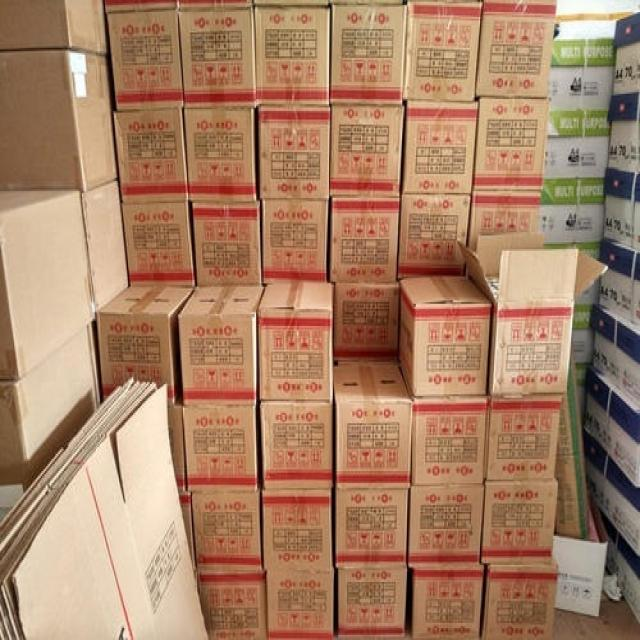box: (457, 234, 611, 394), (0, 189, 96, 382), (0, 317, 100, 490), (0, 48, 118, 191), (93, 287, 197, 408), (399, 276, 494, 401), (177, 285, 265, 408), (333, 362, 411, 490), (259, 282, 333, 401), (475, 0, 558, 97), (403, 2, 484, 101), (114, 108, 191, 207), (332, 3, 406, 106), (553, 336, 590, 541), (108, 10, 184, 109), (178, 10, 256, 106), (255, 5, 330, 104), (582, 430, 640, 558), (183, 108, 260, 203), (550, 497, 611, 616), (403, 99, 477, 196), (475, 99, 550, 193), (329, 104, 404, 198), (257, 104, 330, 200), (481, 476, 559, 563), (412, 396, 488, 485), (485, 393, 562, 480), (585, 367, 640, 488), (81, 181, 131, 312), (260, 401, 333, 490), (180, 408, 256, 493), (591, 500, 640, 630), (123, 201, 197, 287), (411, 483, 485, 567), (335, 488, 411, 567), (399, 195, 471, 278), (0, 0, 108, 55), (329, 196, 399, 280), (192, 203, 262, 287), (191, 490, 262, 572), (484, 563, 559, 640), (262, 200, 329, 285), (265, 490, 333, 573), (334, 280, 401, 360), (411, 565, 481, 640), (338, 568, 410, 640), (548, 67, 617, 138), (197, 573, 266, 640), (468, 189, 539, 254), (593, 304, 640, 401), (541, 138, 609, 205), (268, 570, 333, 640), (599, 237, 640, 328), (539, 205, 605, 261), (549, 19, 620, 67), (603, 166, 640, 253), (609, 94, 640, 174), (613, 12, 640, 97), (168, 389, 188, 495), (177, 493, 195, 570), (104, 0, 179, 14), (178, 0, 256, 12)
